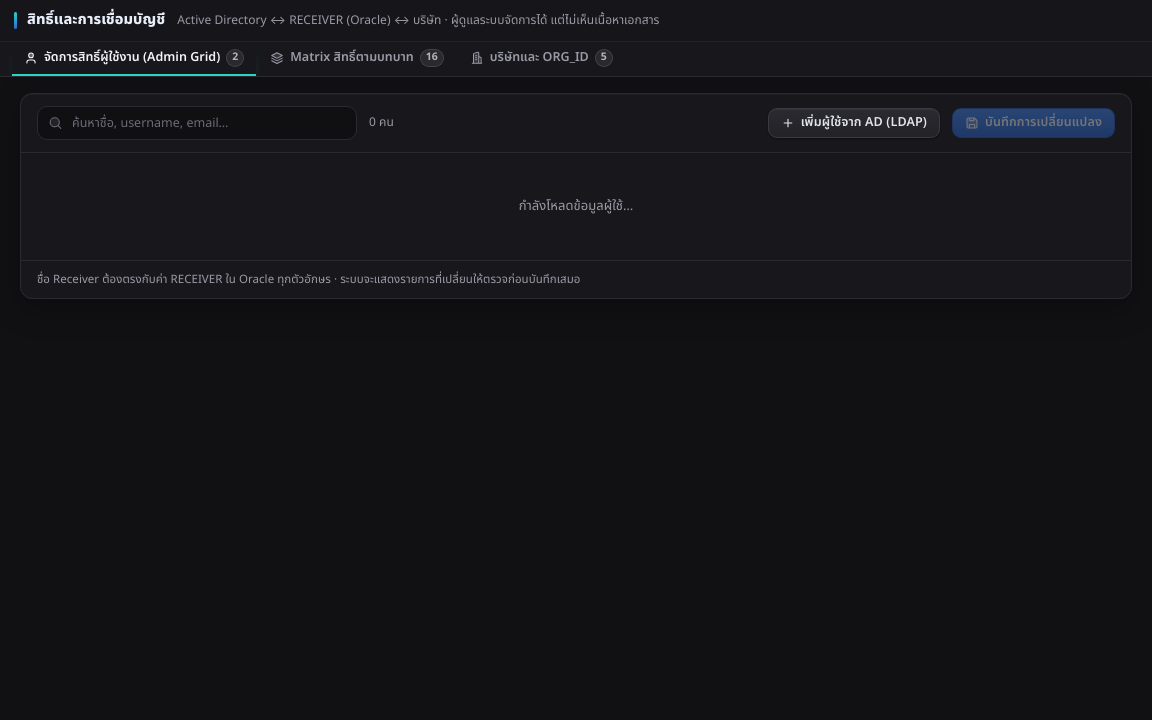
Test: Interactive RbacPage with Mockup v3 Excel Grid › renders Excel Grid toolbar with Add User button and opens search modal
Click the button "เพิ่มผู้ใช้จาก AD (LDAP)" at (854,123), box [768,108,940,138]
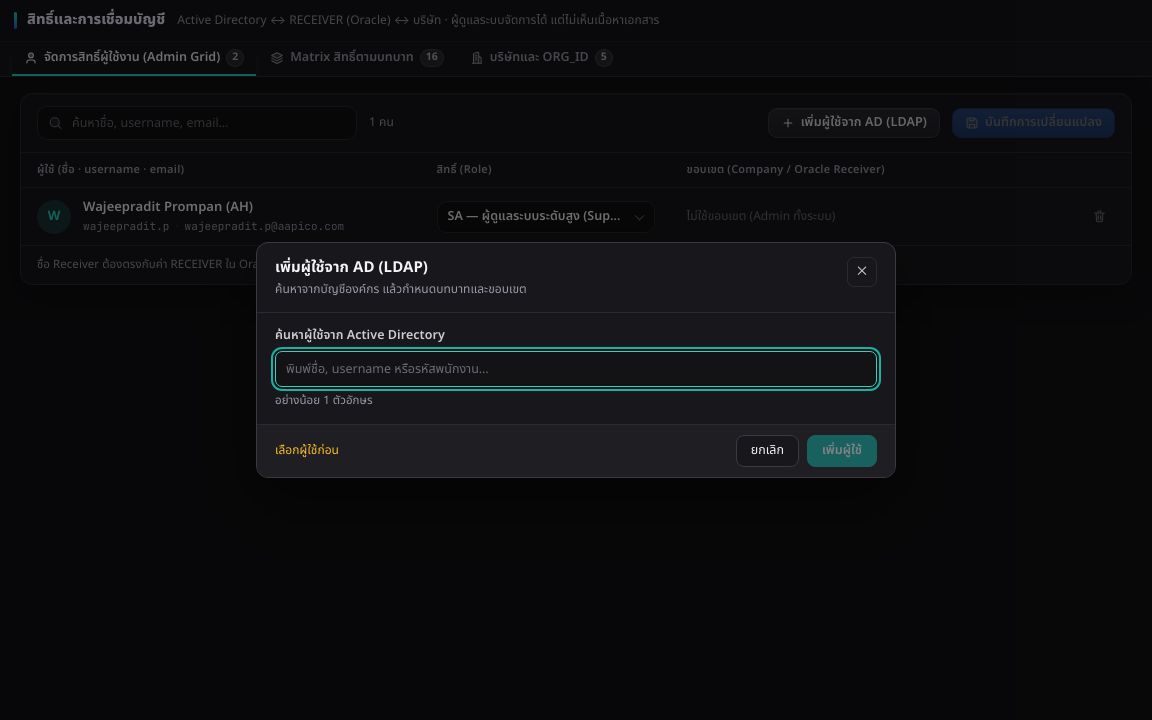
Expected: the dropdown with placeholder "พิมพ์ชื่อ, username หรือรหัสพนักงาน…" is shown, [275,351,877,387]
